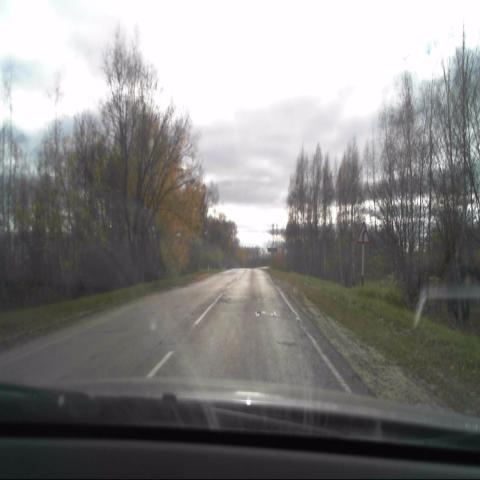1_11: (357, 222, 371, 244)
